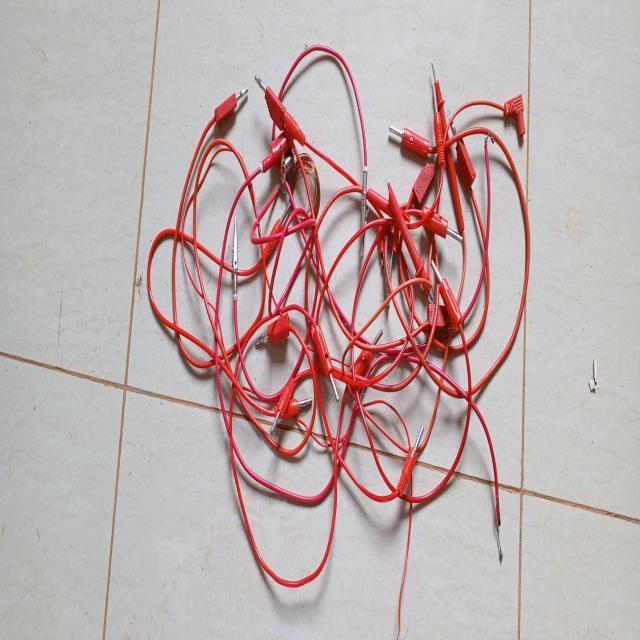BNC Cable: (156, 27, 540, 598)
